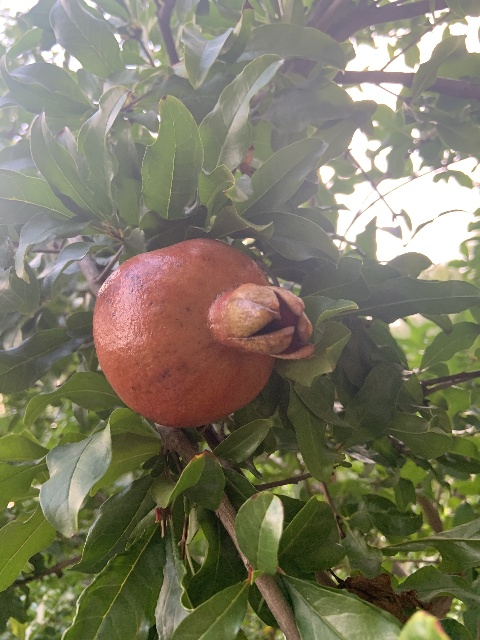ripe: (92, 238, 313, 427)
